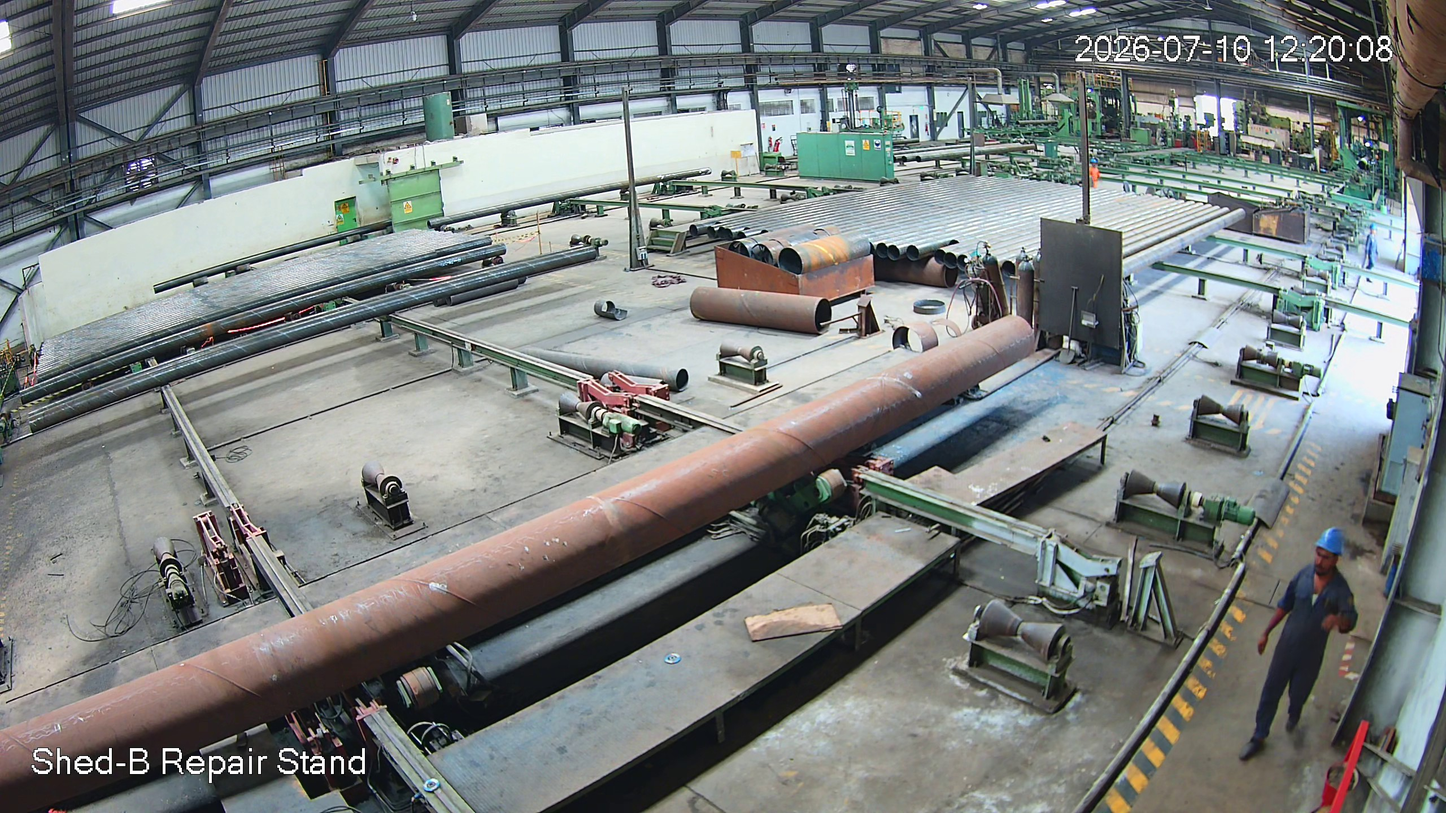Helmet: (1300, 527, 1354, 604)
Person: (1249, 529, 1367, 765)
